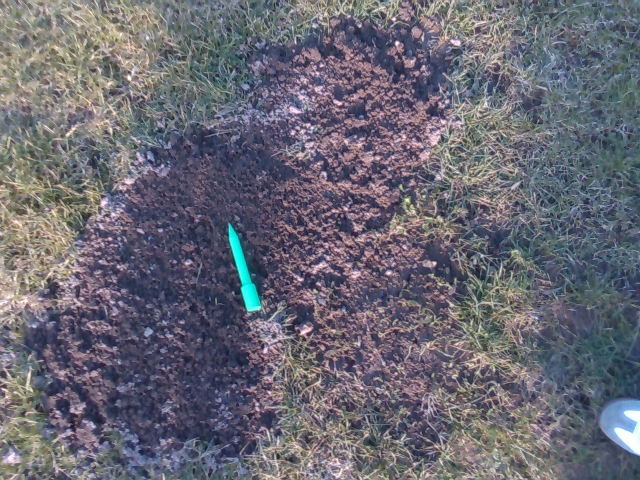Probe: (224, 217, 268, 323)
